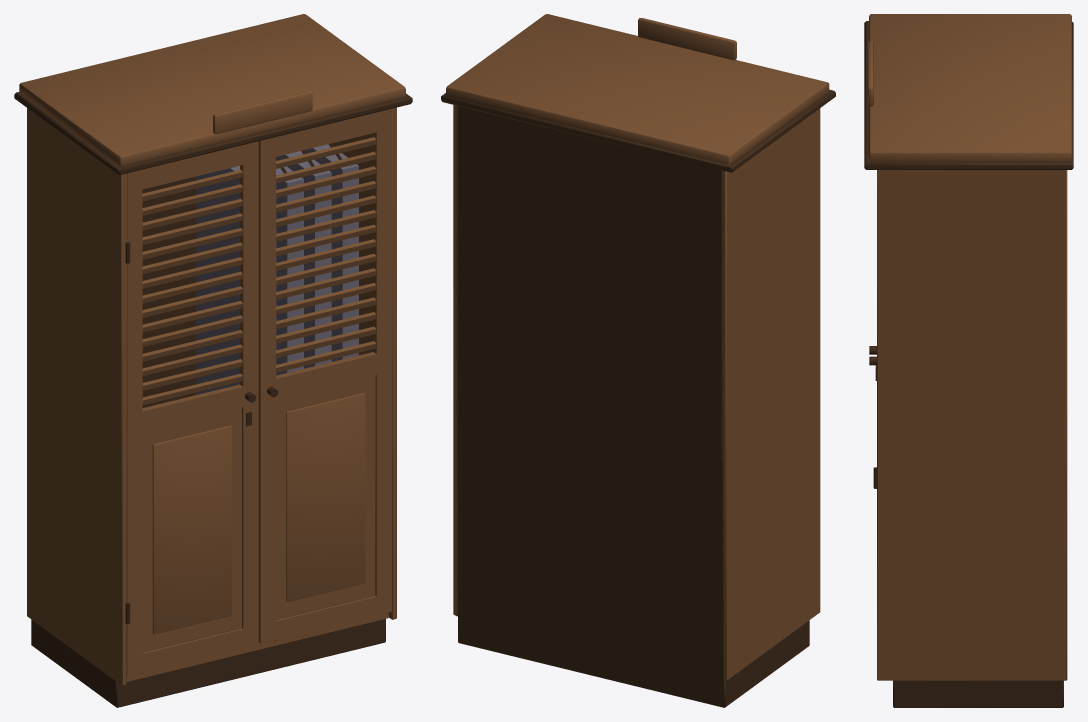
Rendered from wardrobe.glb.
3 renders of one model, left to right at view 1: azimuth 30°, elevation 25°; view 2: azimuth 150°, elevation 25°; view 3: azimuth 270°, elevation 25°, orthographic.
Parts seen in each view (by area): view 1: WardrobeBody, Door; view 2: WardrobeBody; view 3: WardrobeBody.
Boxes of the visible parts, x1=… form: WardrobeBody: x1=14, y1=14, x2=412, y2=707; Door: x1=125, y1=141, x2=258, y2=676; WardrobeBody: x1=441, y1=14, x2=835, y2=707; WardrobeBody: x1=864, y1=14, x2=1073, y2=707.
Bounding box in the file's own units: 1.07 × 2.02 × 0.66.
